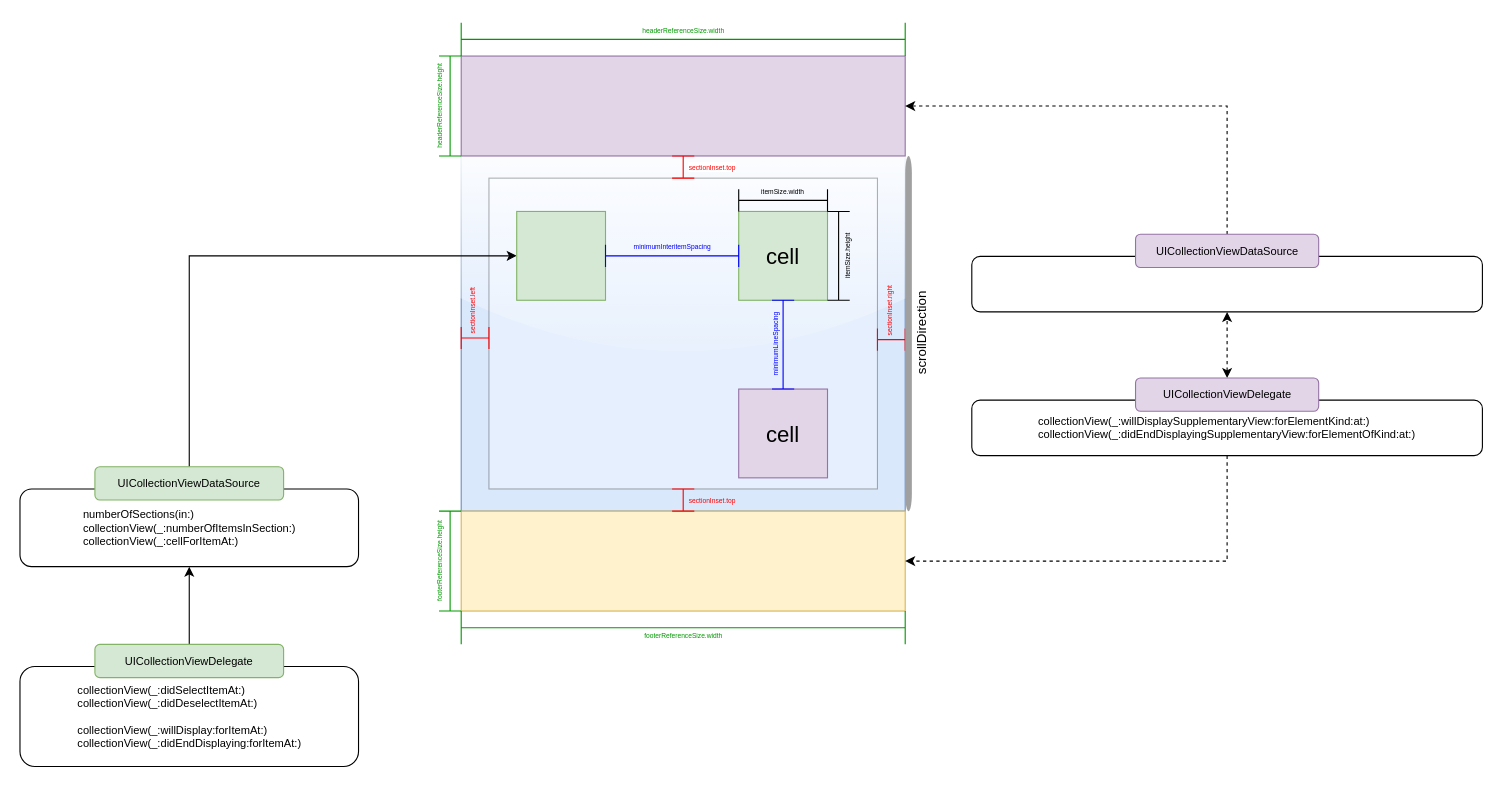
The diagram is 1502 pixels wide and 786 high, and some of its shapes have lost their labels. Here are the shapes that lost their labels. From the top down, the box of each, then its label:
(460, 55, 905, 156): header (UICollectionReusableView)
(516, 210, 606, 300): cell (UICollectionViewCell)
(971, 255, 1482, 312): collectionView(_:viewForSupplementaryElementOfKind:at:)
(488, 177, 877, 489): section
(460, 510, 905, 611): footer (UICollectionReusableView)
